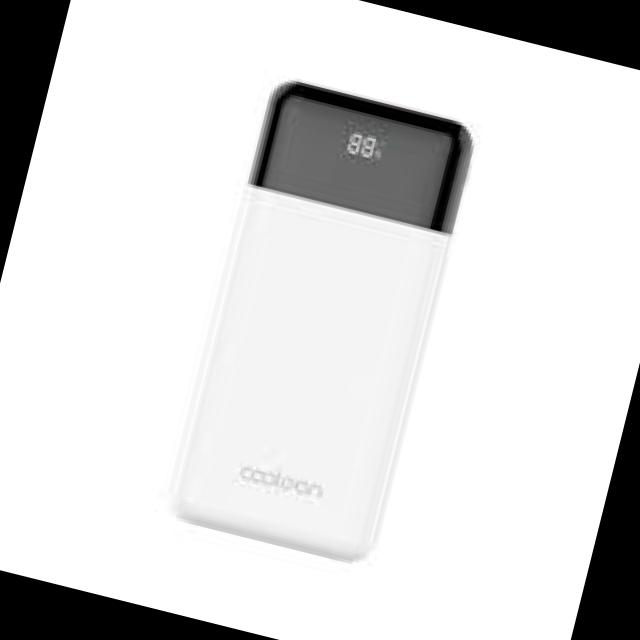power_bank: (162, 71, 485, 574)
